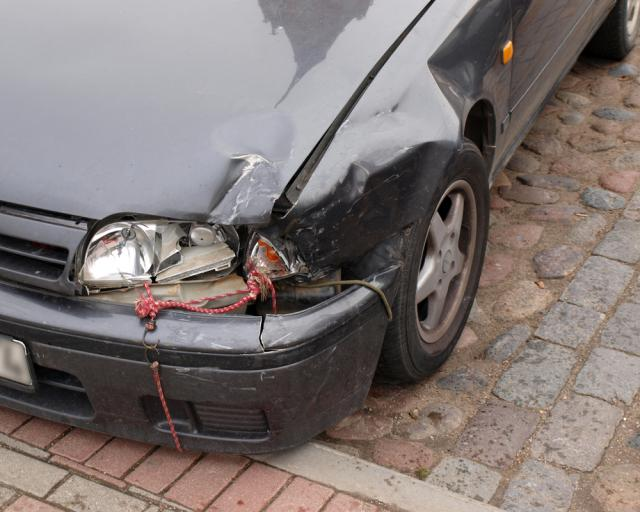crack: (258, 314, 278, 353)
dent: (335, 76, 453, 198), (206, 106, 292, 220)
lamp broken: (77, 217, 258, 302)
